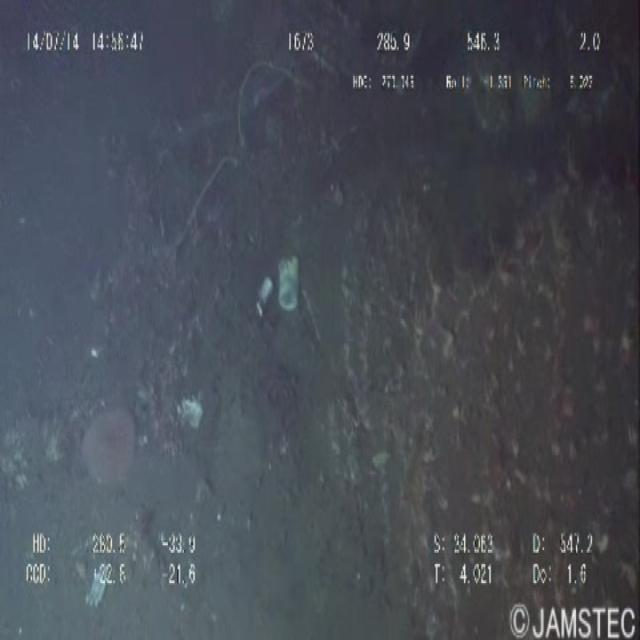Glass: (249, 270, 277, 322)
Litter: (171, 383, 212, 444), (82, 555, 118, 616)
Plastic: (277, 237, 308, 318)
